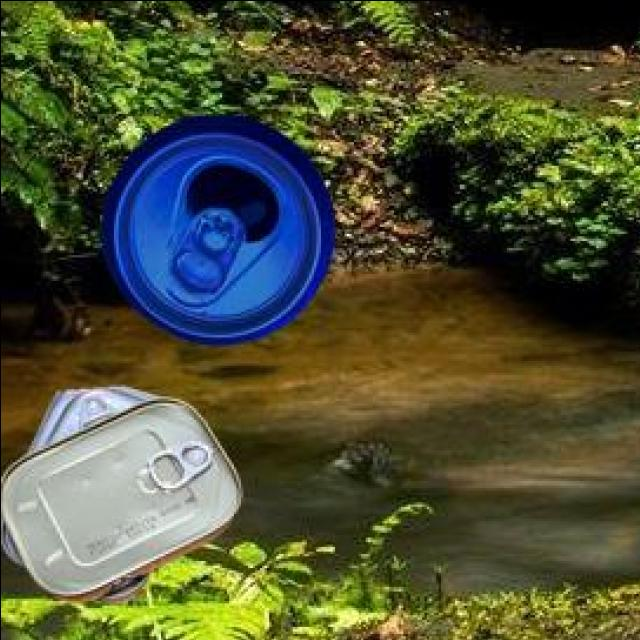logam: (105, 109, 338, 340), (1, 382, 244, 599)
